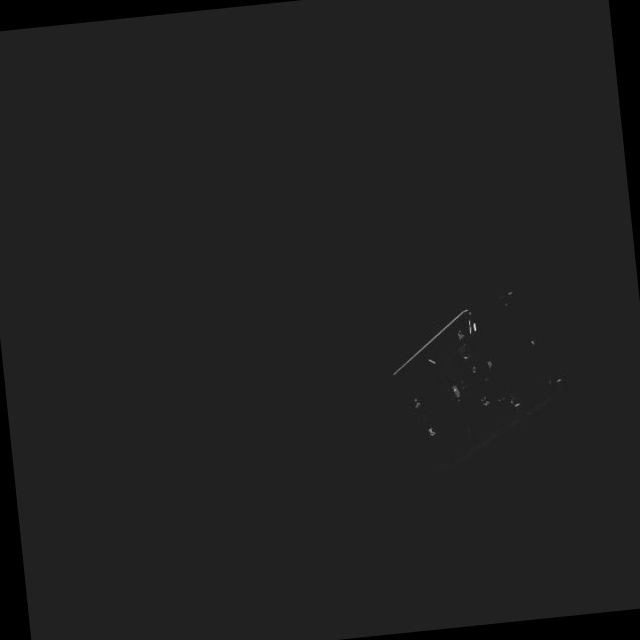medium_debris: (389, 293, 576, 463)
